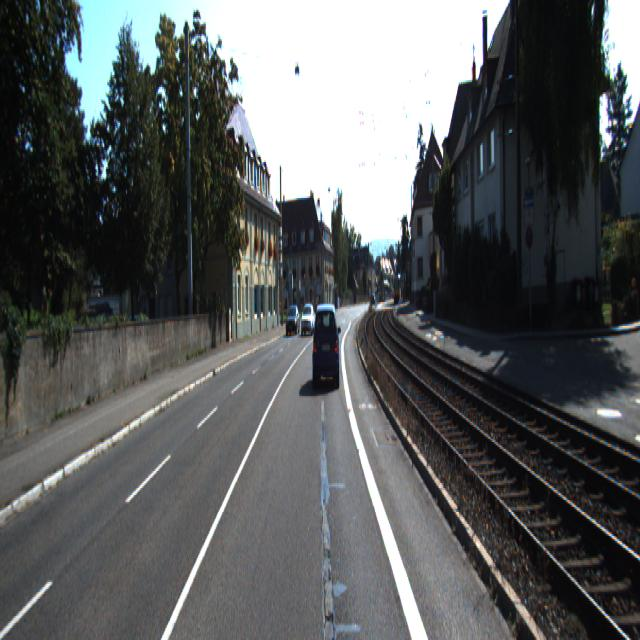Car: (311, 302, 341, 391), (301, 303, 316, 335), (286, 306, 300, 336)
DontCare: (365, 285, 380, 311)
